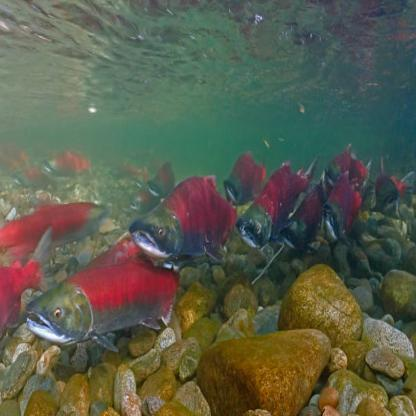sockeye: (0, 194, 105, 328), (30, 258, 179, 345), (132, 164, 235, 264), (243, 154, 313, 252), (322, 150, 369, 240), (376, 175, 416, 208)
